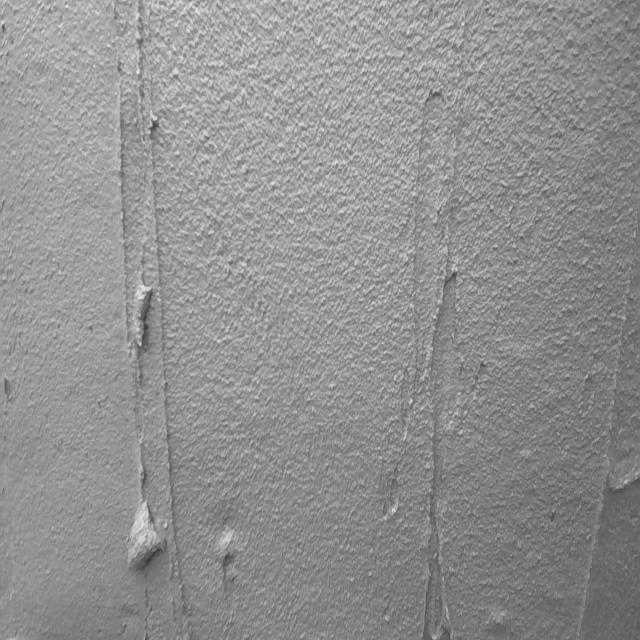trowels marks: (114, 14, 182, 630), (562, 271, 632, 640)
